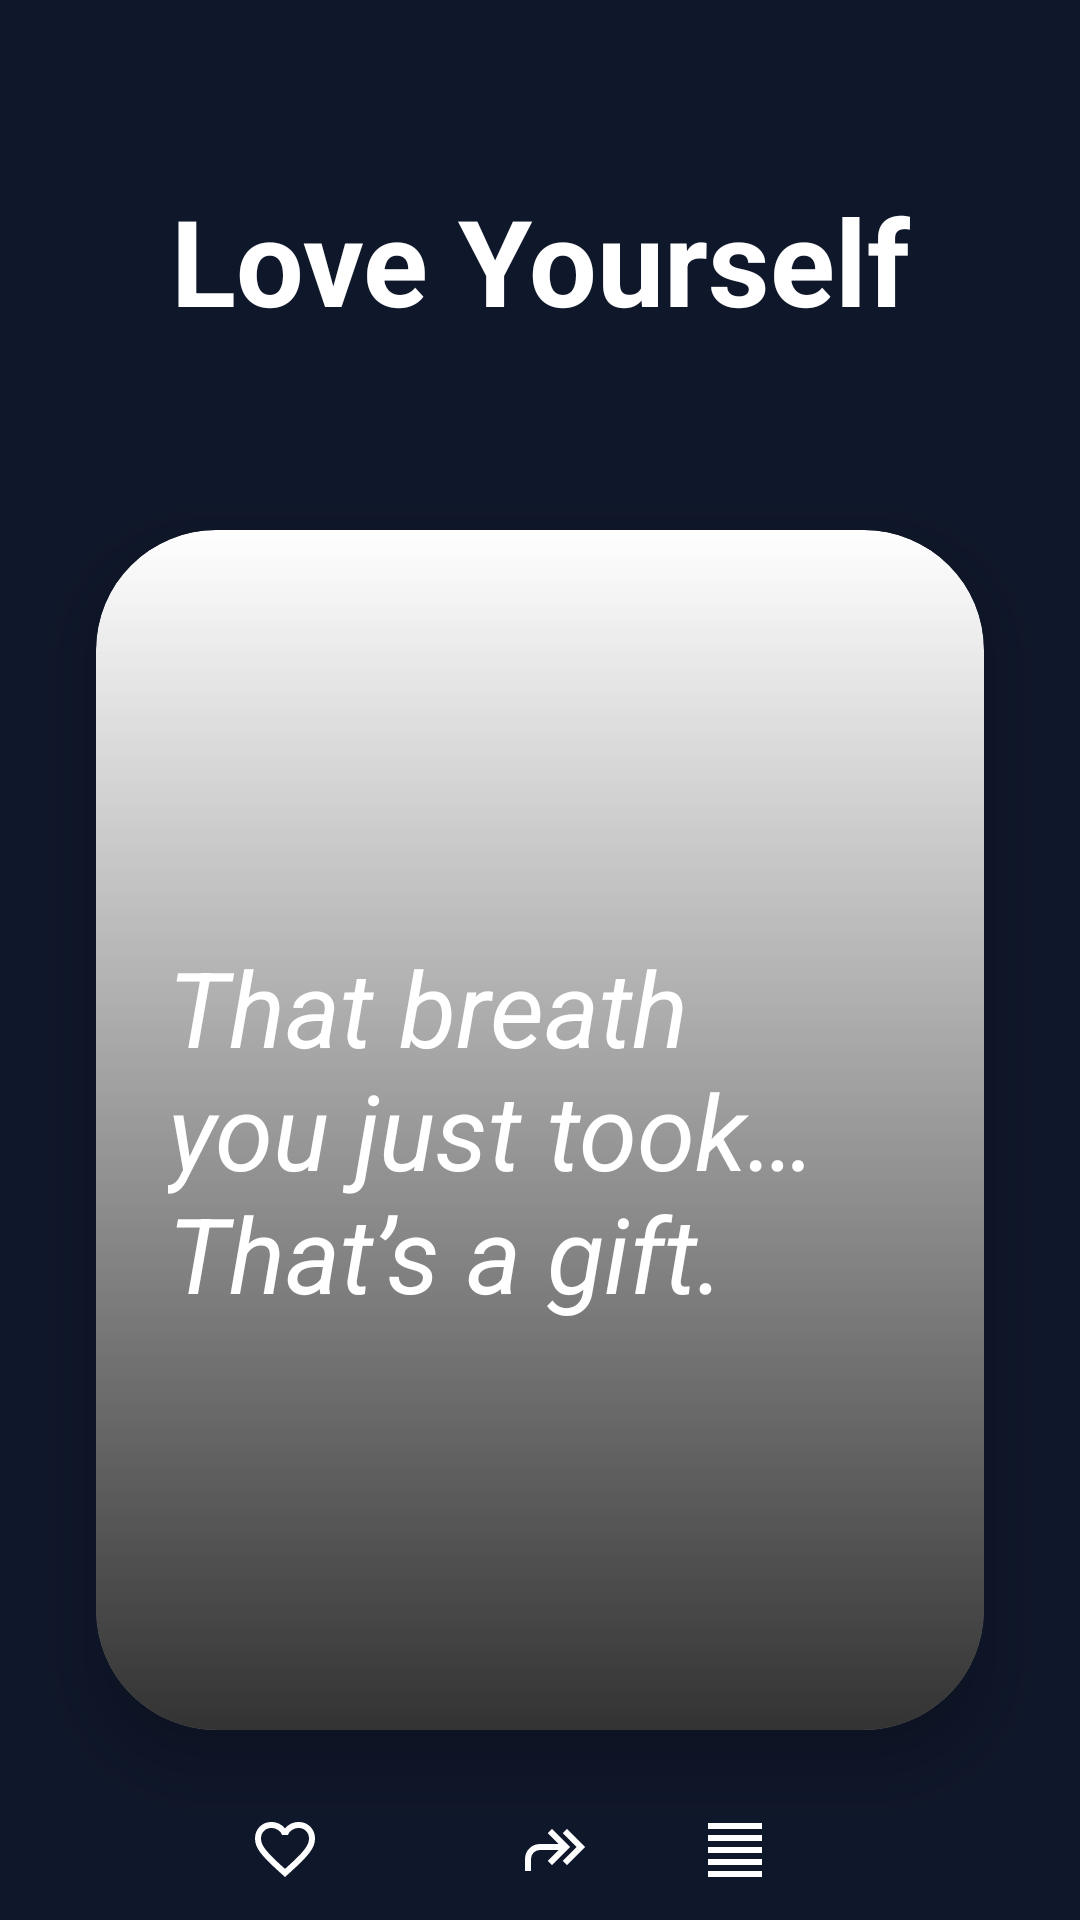

Icons on this 1080w x 1920h Android screen, each with its box as [left=x1, top=y1, right=x2, bottom=y2]:
Favorite: [left=255, top=1822, right=315, bottom=1877]
Share: [left=525, top=1829, right=585, bottom=1871]
